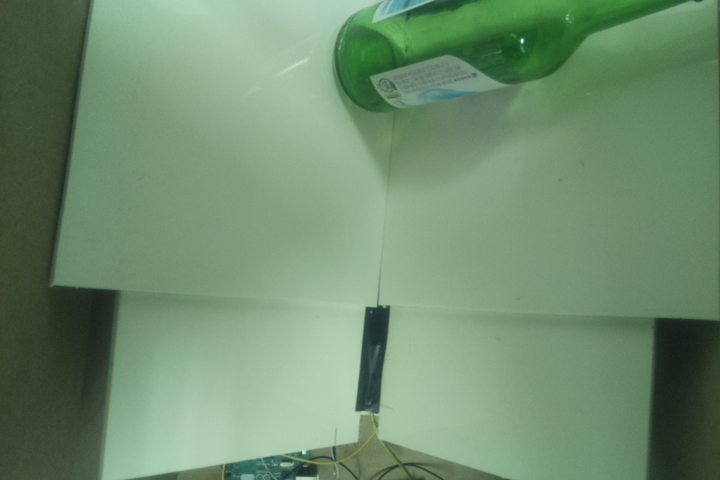soju: (331, 1, 713, 119)
